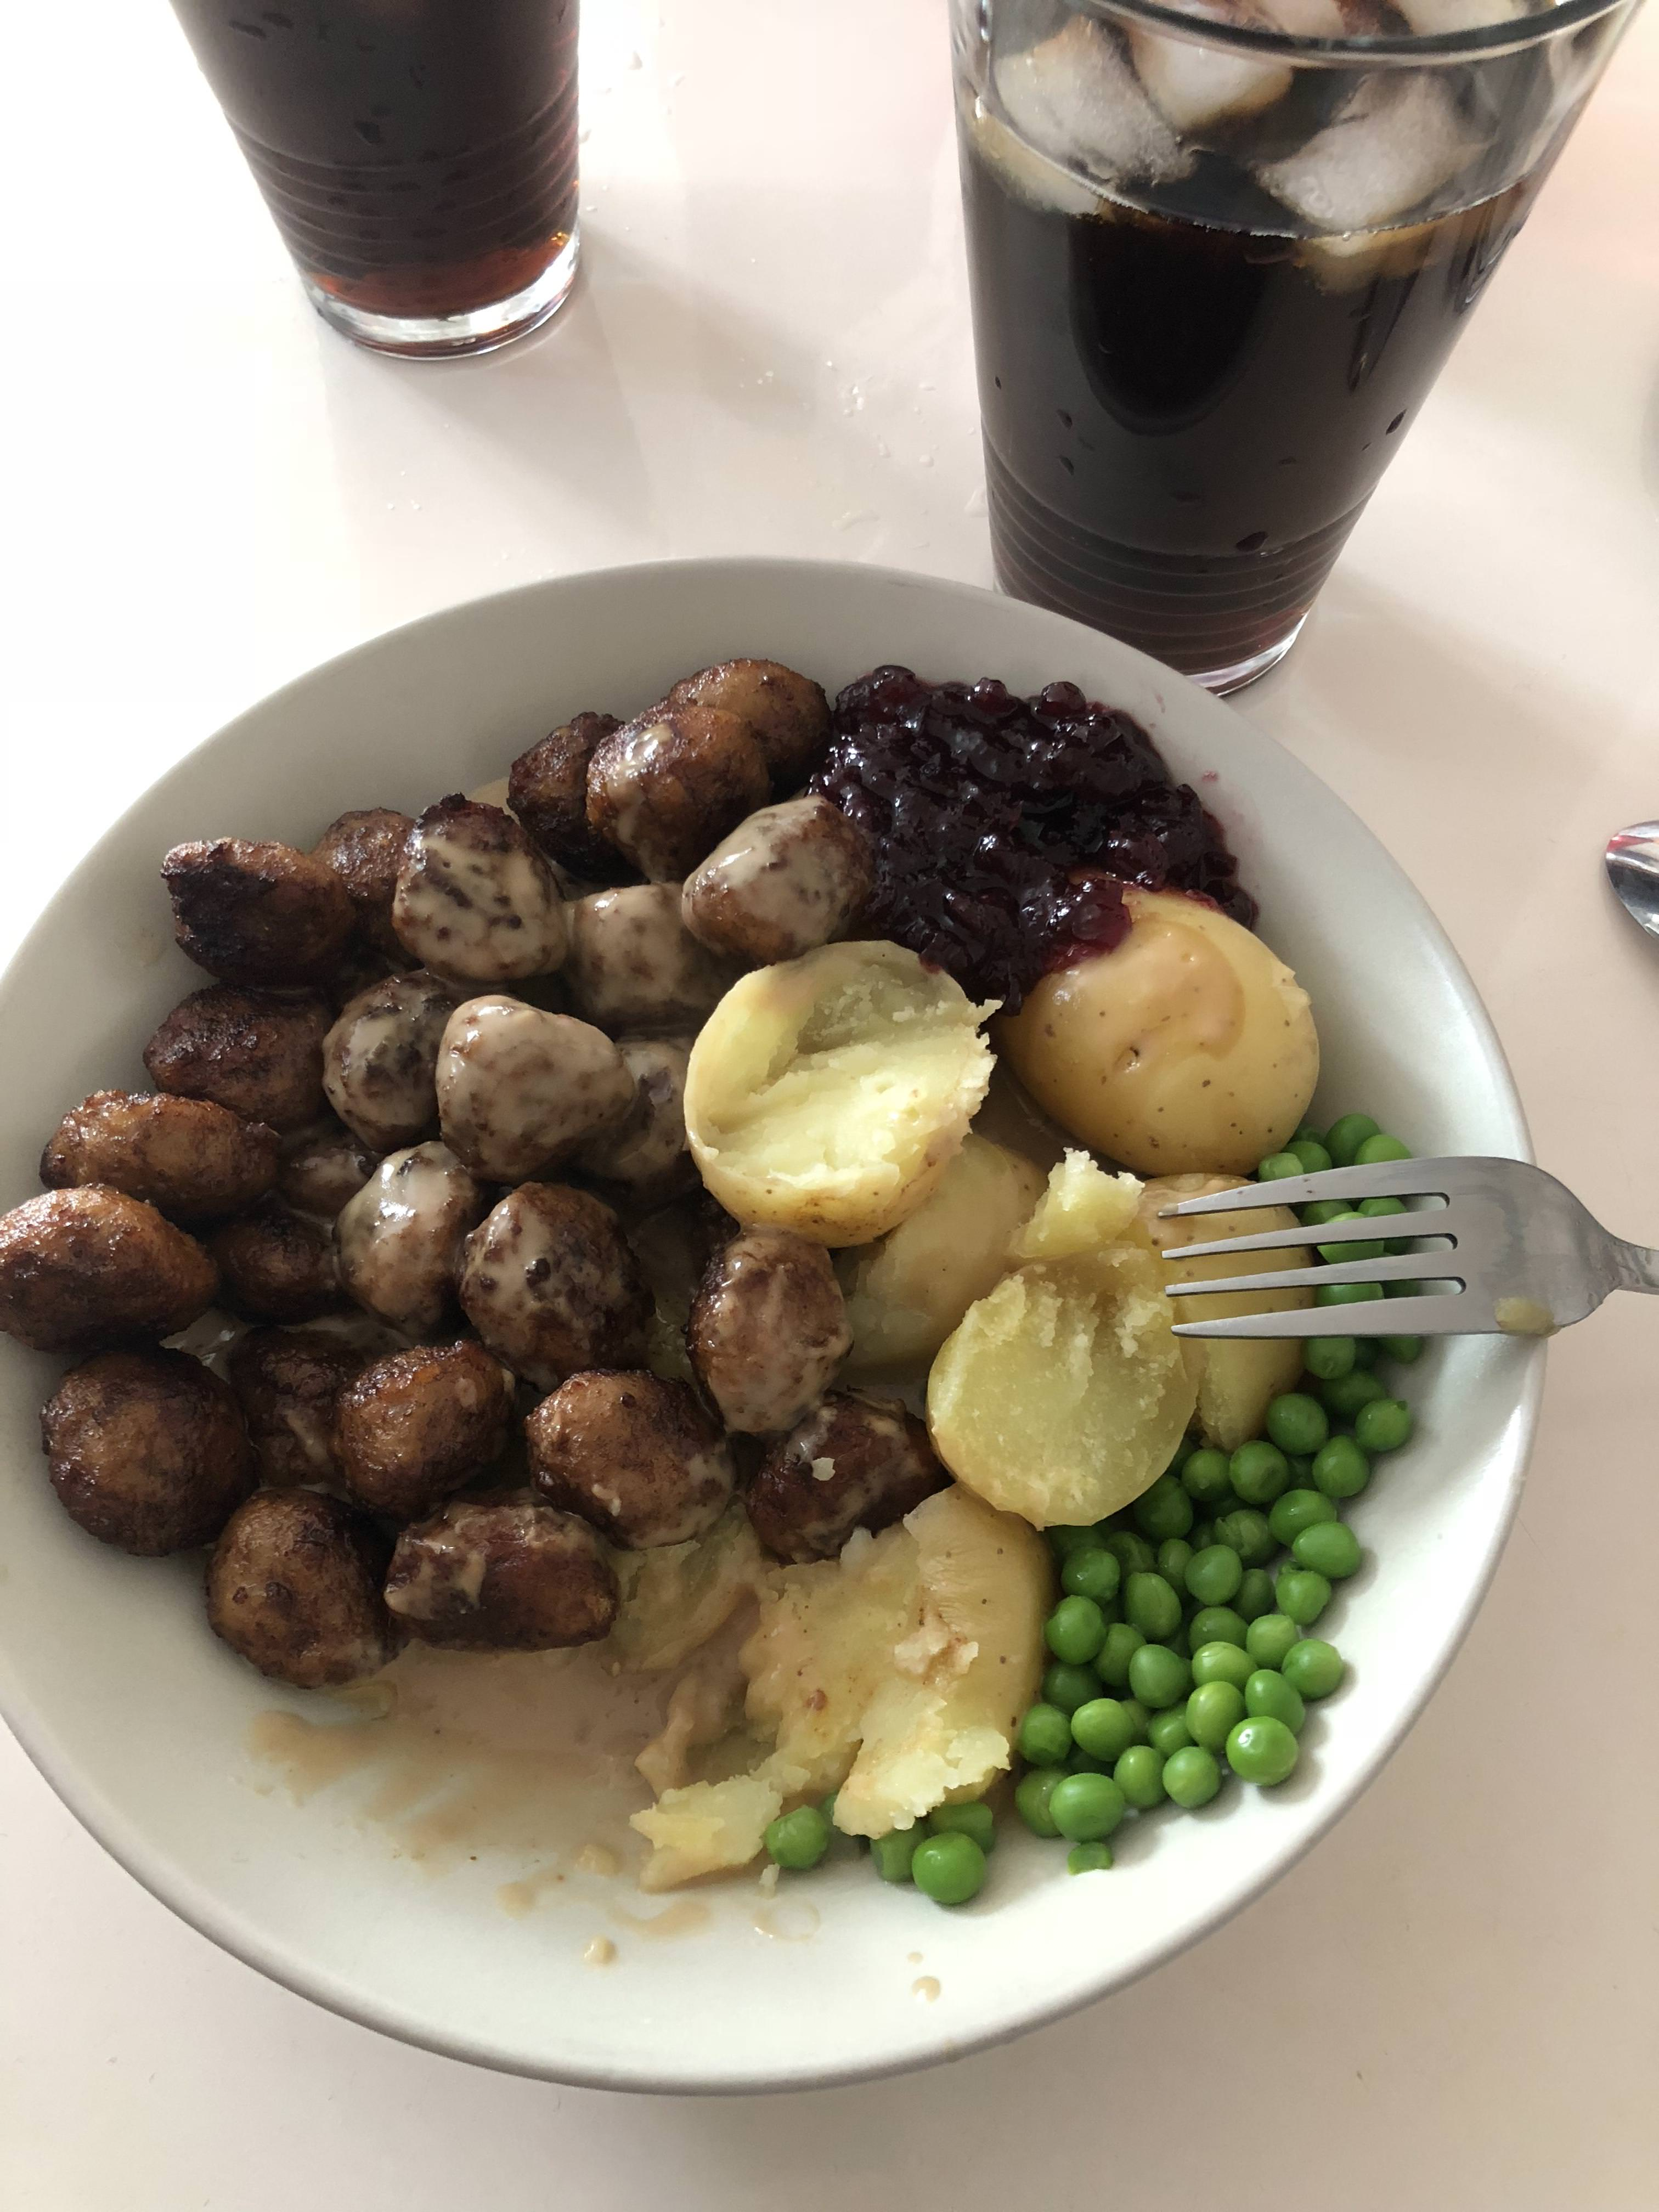boiled peas: (978, 1127, 1596, 1883)
boiled potatoes: (958, 1176, 1209, 1505), (702, 968, 969, 1251), (1054, 895, 1326, 1150), (742, 1494, 1021, 1737)
meatballs: (51, 815, 713, 1660), (502, 639, 849, 958)
